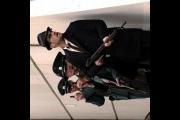gun: (84, 20, 126, 66)
